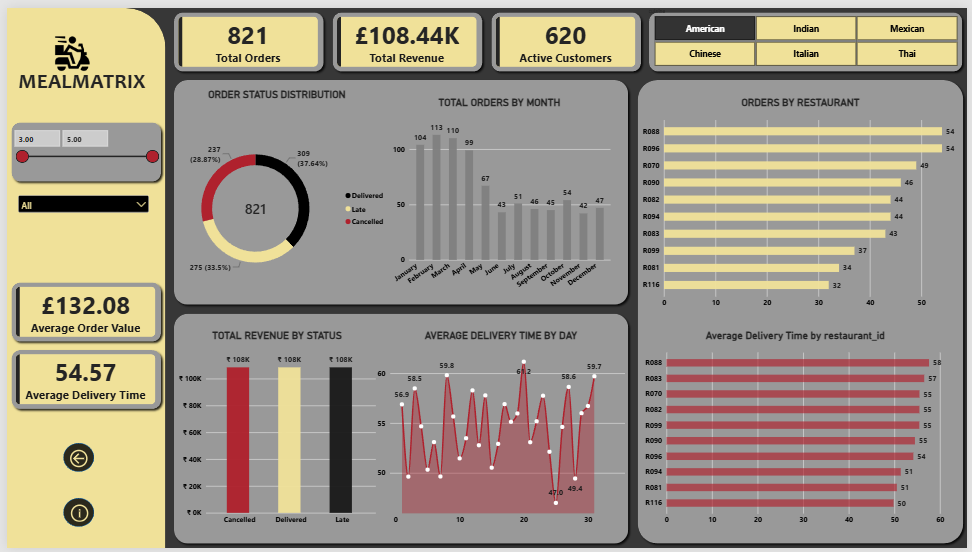

What the dashboard file says about the page in this screenshot:
{"tool":"powerbi","page":{"name":"Page 1","canvas":[1920,1080],"ordinal":0},"visuals":[{"type":"shape","box":[0,0,317,1080.6],"z":0},{"type":"shape","box":[0,220.2,317,135.8],"z":1000},{"type":"shape","box":[325.2,0,317,135.8],"z":2000},{"type":"shape","box":[959.2,0,317,135.8],"z":3000},{"type":"shape","box":[0,675.1,317,135.8],"z":4000},{"type":"shape","box":[0,539.3,317,135.8],"z":5000},{"type":"shape","box":[642.2,0,317,135.8],"z":6000},{"type":"shape","box":[1276.2,0,644.3,135.8],"z":7000},{"type":"shape","box":[325.2,135.8,926.2,467.2],"z":8000},{"type":"shape","box":[325.2,603.1,926.2,477.5],"z":9000},{"type":"shape","box":[1251.5,135.8,669,944.8],"z":10000},{"type":"image","box":[88.5,22.6,86.4,137.9],"z":11000},{"type":"textbox","box":[22.6,119.4,286.1,88.5],"z":12000},{"type":"cardVisual","fields":{"Data":["_orders_medium csv.Total Orders"]},"box":[343.7,18.5,279.9,100.9],"z":13000},{"type":"cardVisual","fields":{"Data":["_orders_medium csv.Average Order Value"]},"box":[18.5,557.8,279.9,100.9],"z":14000},{"type":"cardVisual","fields":{"Data":["_orders_medium csv.Total Revenue"]},"box":[660.7,16.5,279.9,100.9],"z":15000},{"type":"cardVisual","fields":{"Data":["_orders_medium csv.Active Customers"]},"box":[977.7,18.5,279.9,100.9],"z":16000},{"type":"cardVisual","fields":{"Data":["_orders_medium csv.Average Delivery Time"]},"box":[18.5,691.6,279.9,100.9],"z":17000},{"type":"donutChart","title":"ORDER STATUS DISTRIBUTION","fields":{"Category":["_orders_medium csv.status"],"Y":["_orders_medium csv.Total Orders"]},"box":[317,160.5,444.6,442.5],"z":18000},{"type":"clusteredColumnChart","title":"TOTAL ORDERS BY MONTH","fields":{"Category":["_orders_medium csv.order_time.Variation.Date Hierarchy.Month"],"Y":["_orders_medium csv.Total Orders"]},"box":[761.6,177,444.6,397.3],"z":19000},{"type":"barChart","title":"ORDERS BY RESTAURANT","fields":{"Category":["restaurants csv.restaurant_id"],"Y":["_orders_medium csv.Total Orders"]},"box":[1270,177,634,426.1],"z":20000},{"type":"clusteredColumnChart","title":"TOTAL REVENUE BY STATUS","fields":{"Category":["_orders_medium csv.status"],"Y":["_orders_medium csv.Total Revenue"]},"box":[343.7,642.2,395.2,395.2],"z":21000},{"type":"lineChart","title":"AVERAGE DELIVERY TIME BY DAY","fields":{"Category":["_orders_medium csv.order_time.Variation.Date Hierarchy.Day"],"Y":["_orders_medium csv.Average Delivery Time"]},"box":[738.9,642.2,496.1,395.2],"z":22000},{"type":"clusteredBarChart","fields":{"Category":["restaurants csv.restaurant_id"],"Y":["_orders_medium csv.Average Delivery Time"]},"box":[1276.2,642.2,603.1,395.2],"z":23000},{"type":"slicer","fields":{"Values":["restaurants csv.cuisine"]},"box":[1276.2,0,644.3,117.3],"z":24000},{"type":"slicer","fields":{"Values":["restaurants csv.rating"]},"box":[8.2,238.8,300,300],"z":25000},{"type":"slicer","fields":{"Values":["restaurants csv.city"]},"box":[18.5,370.5,271.7,300.5],"z":26000},{"type":"shape","box":[113.2,870.7,61.7,57.6],"z":27000},{"type":"shape","box":[113.2,979.8,61.7,57.6],"z":28000},{"type":"actionButton","box":[94.7,988,100,40],"z":29000},{"type":"actionButton","box":[76.2,870.7,137.9,61.7],"z":30000}]}

Visuals, with their boxes in screenshot pixels (x1, y1, x2, y2), scaled from the page's 1920x1080 canvas onto the 972x552 screenshot:
shape: region(0, 0, 160, 551)
shape: region(0, 113, 160, 182)
shape: region(165, 0, 325, 69)
shape: region(486, 0, 646, 69)
shape: region(0, 345, 160, 414)
shape: region(0, 276, 160, 345)
shape: region(325, 0, 486, 69)
shape: region(646, 0, 971, 69)
shape: region(165, 69, 634, 308)
shape: region(165, 308, 634, 551)
shape: region(634, 69, 971, 551)
image: region(45, 12, 89, 82)
textbox: region(11, 61, 156, 106)
cardVisual - _orders_medium csv.Total Orders: region(174, 9, 316, 61)
cardVisual - _orders_medium csv.Average Order Value: region(9, 285, 151, 337)
cardVisual - _orders_medium csv.Total Revenue: region(334, 8, 476, 60)
cardVisual - _orders_medium csv.Active Customers: region(495, 9, 637, 61)
cardVisual - _orders_medium csv.Average Delivery Time: region(9, 353, 151, 405)
"ORDER STATUS DISTRIBUTION" donutChart: region(160, 82, 386, 308)
"TOTAL ORDERS BY MONTH" clusteredColumnChart: region(386, 90, 611, 294)
"ORDERS BY RESTAURANT" barChart: region(643, 90, 964, 308)
"TOTAL REVENUE BY STATUS" clusteredColumnChart: region(174, 328, 374, 530)
"AVERAGE DELIVERY TIME BY DAY" lineChart: region(374, 328, 625, 530)
clusteredBarChart - restaurants csv.restaurant_id x _orders_medium csv.Average Delivery Time: region(646, 328, 951, 530)
slicer - restaurants csv.cuisine: region(646, 0, 971, 60)
slicer - restaurants csv.rating: region(4, 122, 156, 275)
slicer - restaurants csv.city: region(9, 189, 147, 343)
shape: region(57, 445, 89, 474)
shape: region(57, 501, 89, 530)
actionButton: region(48, 505, 99, 525)
actionButton: region(39, 445, 108, 477)
